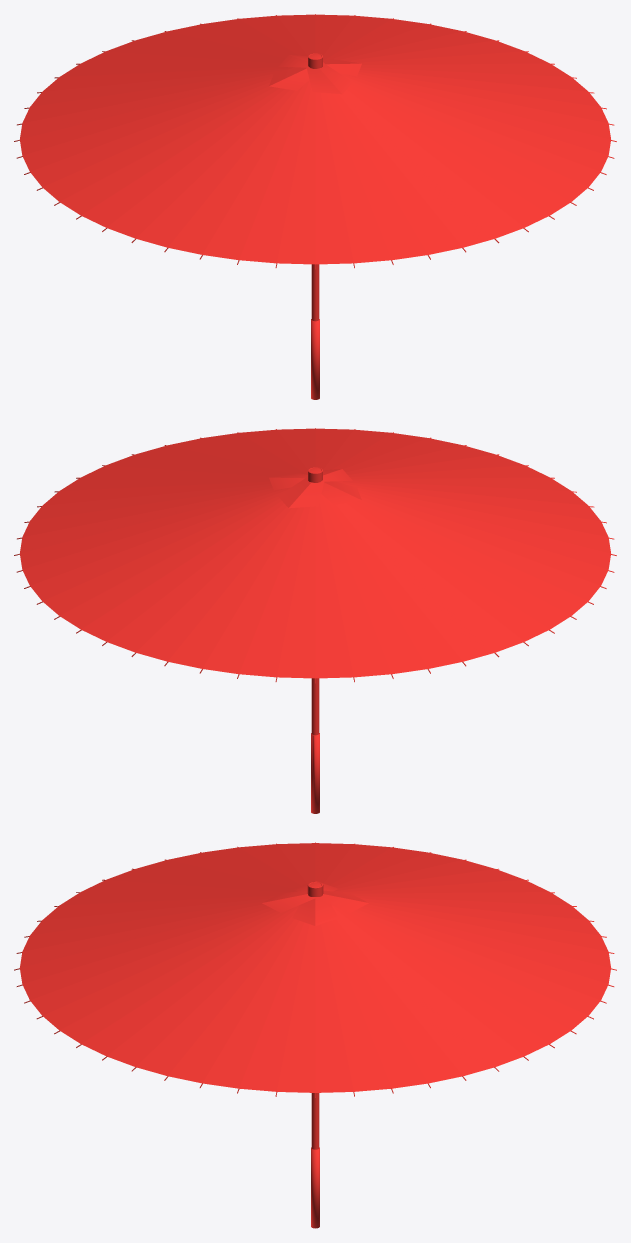
File: WAGASA_1_01 1.glb
3 views of the same model, one above another, from view 1: azimuth 30°, elevation 25°; view 2: azimuth 150°, elevation 25°; view 3: azimuth 270°, elevation 25° (orthographic).
Visible parts, largest first — view 1: WAGASA; view 2: WAGASA; view 3: WAGASA.
Boxes of the visible parts, <box> form: WAGASA: <box>14,14,616,399</box>; WAGASA: <box>14,428,616,813</box>; WAGASA: <box>14,842,616,1228</box>.
Size of the model in its own units: 1.2 by 0.7539 by 1.2.
